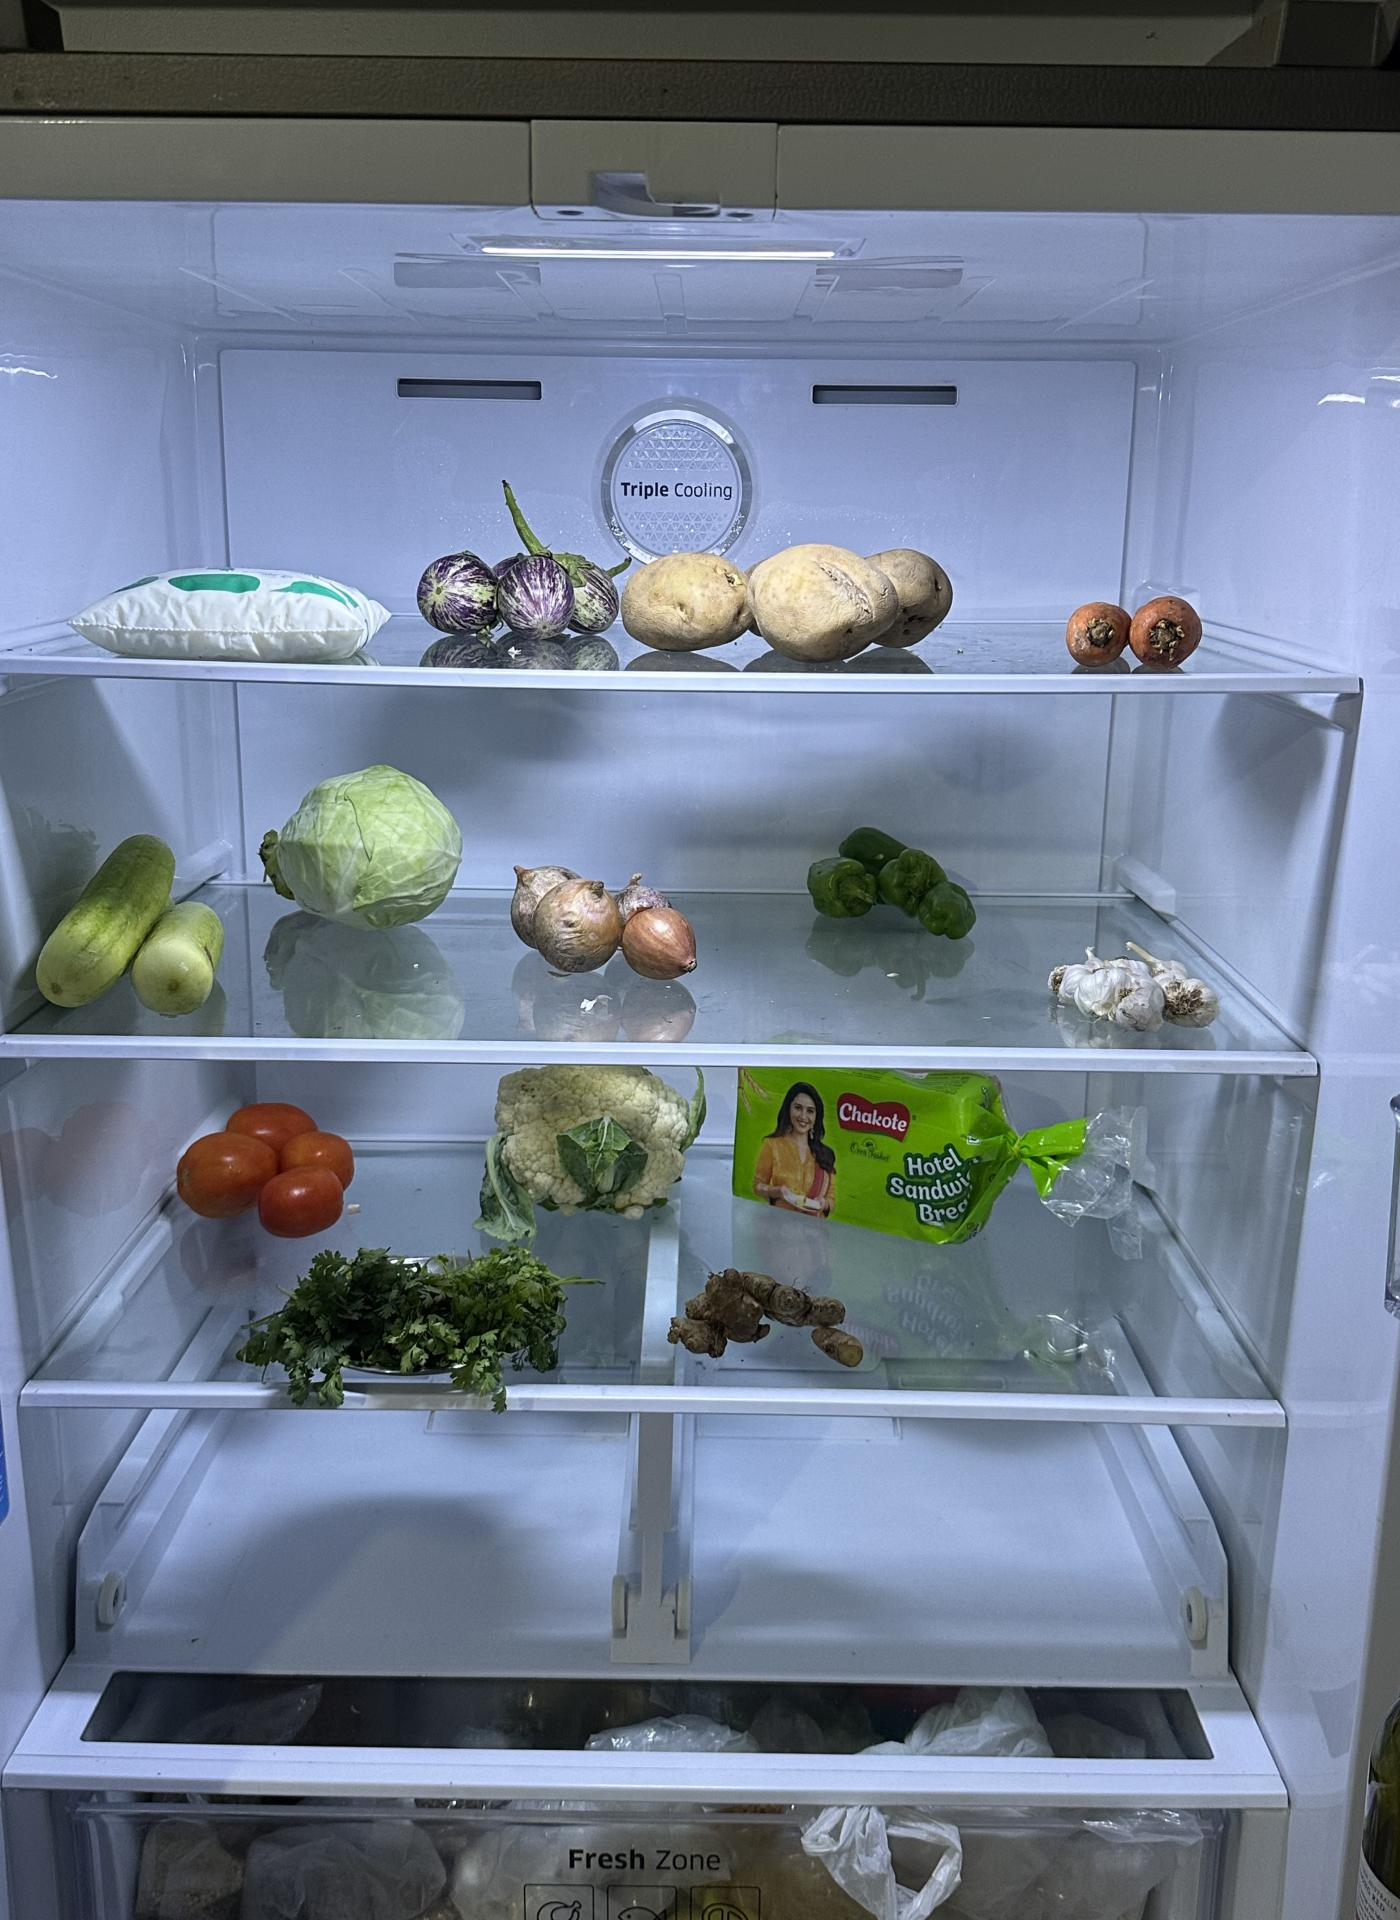bread: (723, 1049, 1017, 1239)
brinjal: (420, 535, 623, 645)
cabbage: (259, 769, 462, 936)
carrots: (1057, 581, 1209, 675)
cauliflower: (479, 1058, 701, 1213)
coriander: (242, 1242, 567, 1394)
cucumber: (25, 833, 231, 1020)
garlic: (1051, 941, 1223, 1039)
ginger: (663, 1267, 868, 1374)
milk: (63, 560, 379, 668)
onion: (510, 857, 699, 975)
potato: (628, 547, 938, 654)
tomato: (171, 1091, 355, 1230)
